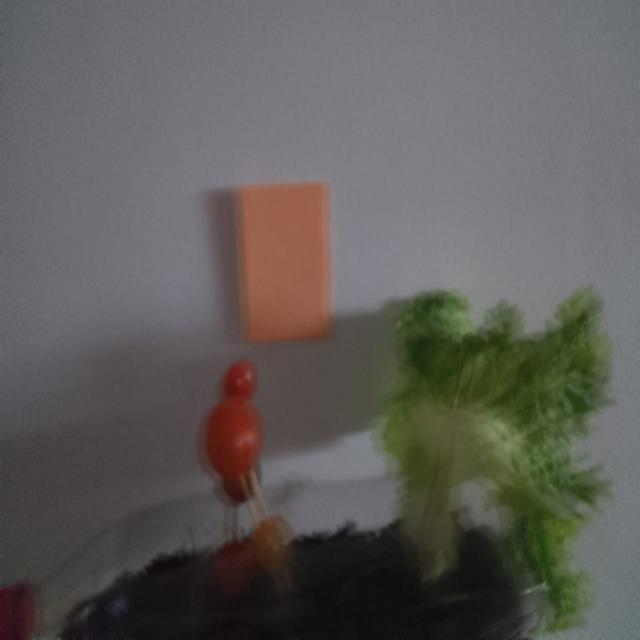card: (235, 182, 332, 341)
fruit_maturation: (251, 516, 291, 570)
fully_grown: (205, 359, 263, 483), (214, 540, 255, 595)
